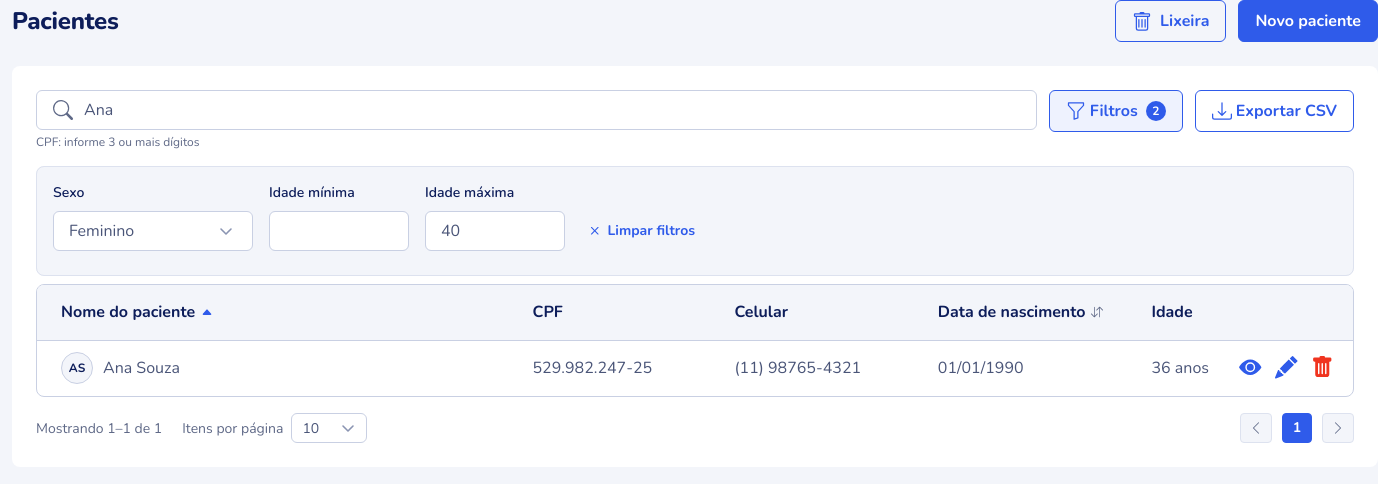
Test: PatientListView filters and export › Limpar filtros removes only the filters
The image size is (1378, 484).
Click the button "Limpar filtros": (640, 231) [581,211,700,251]
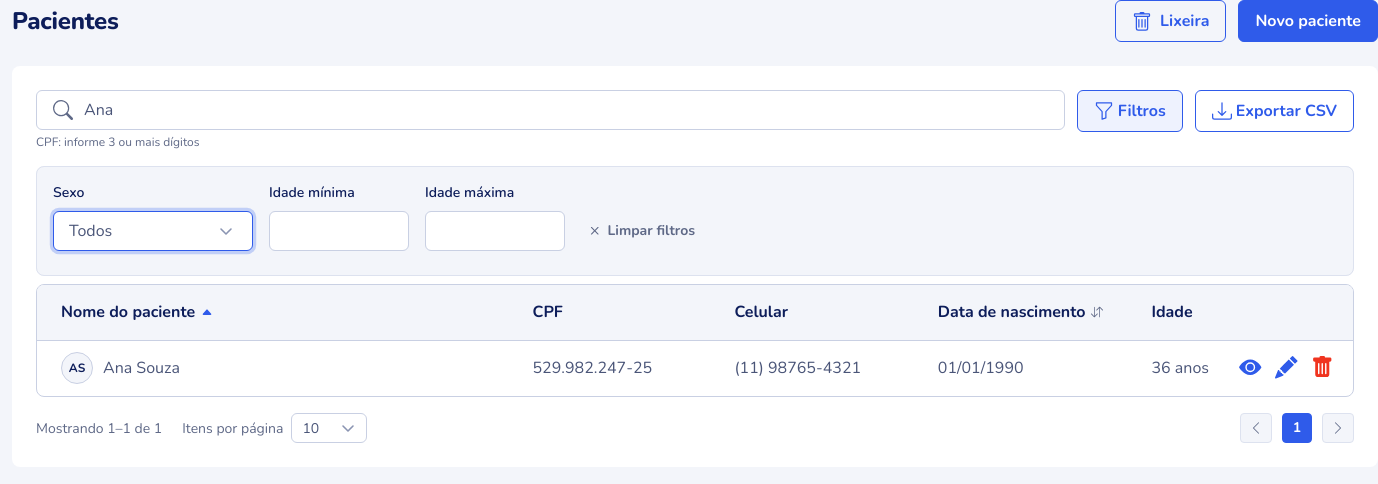
Result: the text with class "filters-toggle__badge" is gone
